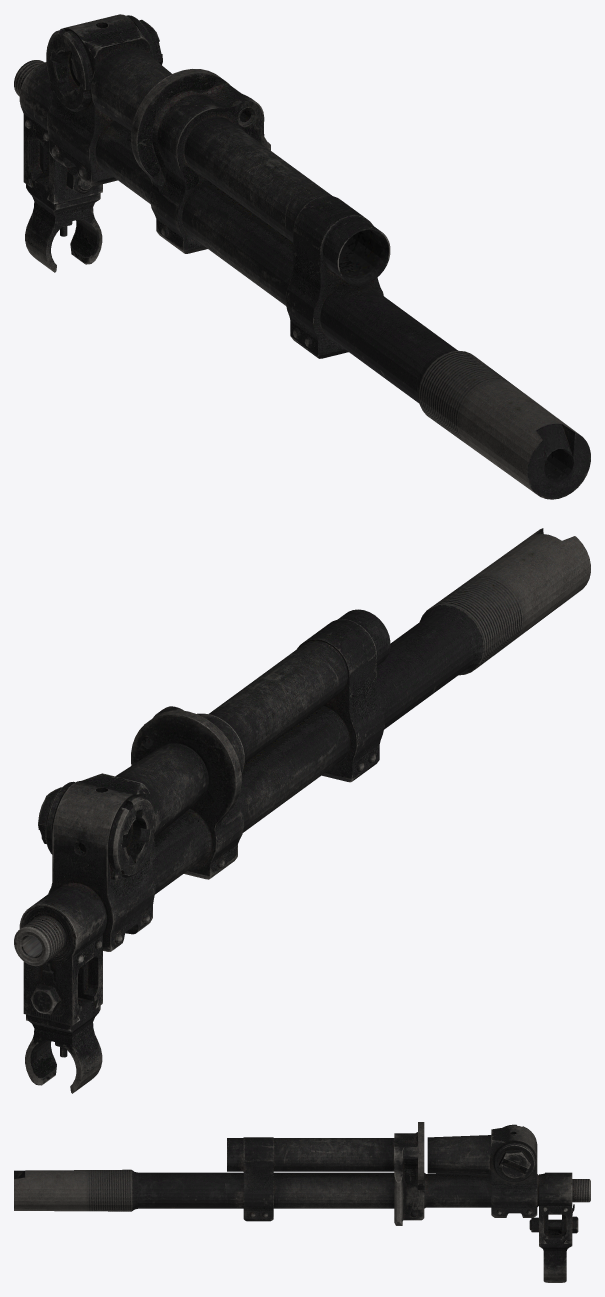
The picture shows the model from 3 angles, top to bottom: view 1: azimuth 30°, elevation 25°; view 2: azimuth 150°, elevation 25°; view 3: azimuth 270°, elevation 25°; orthographic projection. The views are drawn at different scales.
Visible parts, largest first — view 1: TW_65266fd43341ed9aa903dd56_PZ_Import; view 2: TW_65266fd43341ed9aa903dd56_PZ_Import; view 3: TW_65266fd43341ed9aa903dd56_PZ_Import.
Part boxes in pixels (x1,y1,x2,y2): TW_65266fd43341ed9aa903dd56_PZ_Import: (14, 14, 590, 499); TW_65266fd43341ed9aa903dd56_PZ_Import: (14, 528, 590, 1093); TW_65266fd43341ed9aa903dd56_PZ_Import: (14, 1122, 590, 1282).
Size of the model in its own units: 0.0253 by 0.2012 by 0.0591.
Materials: 1 (1 with a texture image).
